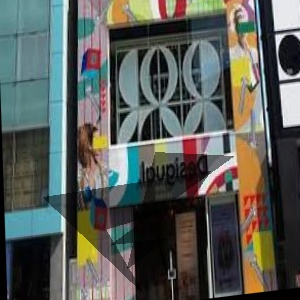desigual: (144, 55, 283, 250)
